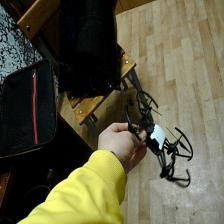drone: (118, 88, 198, 192)
